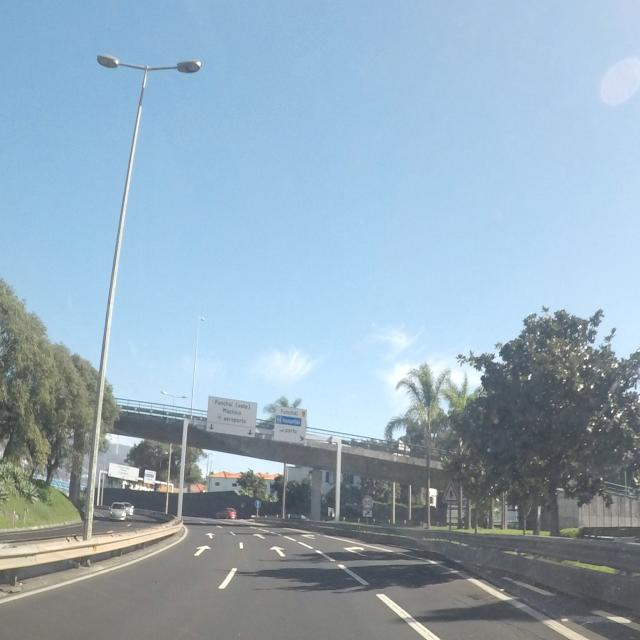car: (109, 502, 132, 521), (215, 508, 237, 519)
